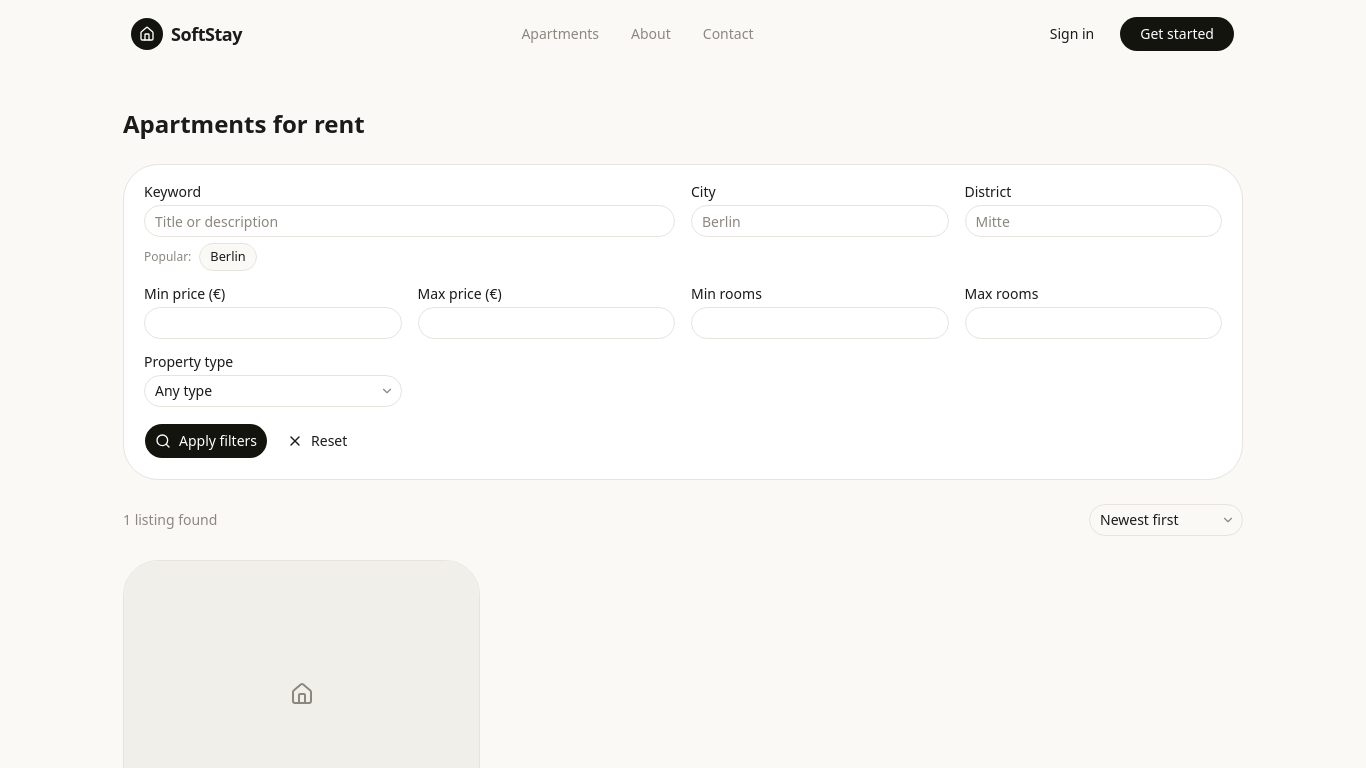
it: ListingsPage › runs a search for the clicked popular keyword without submitting the filters form
Click the button "Berlin" at (228, 257), box [199,243,257,271]
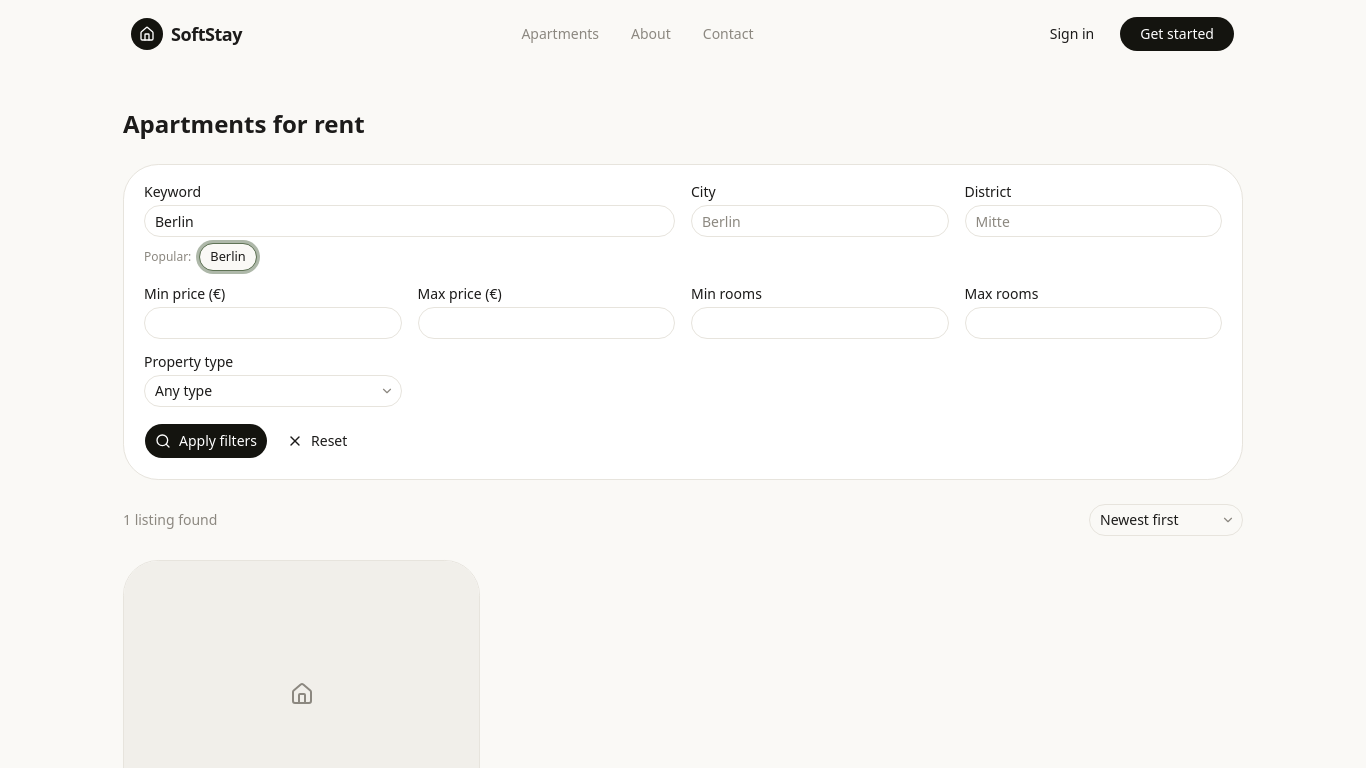
Expected: the field labelled "Keyword" holds "Berlin", [144,205,675,237]
